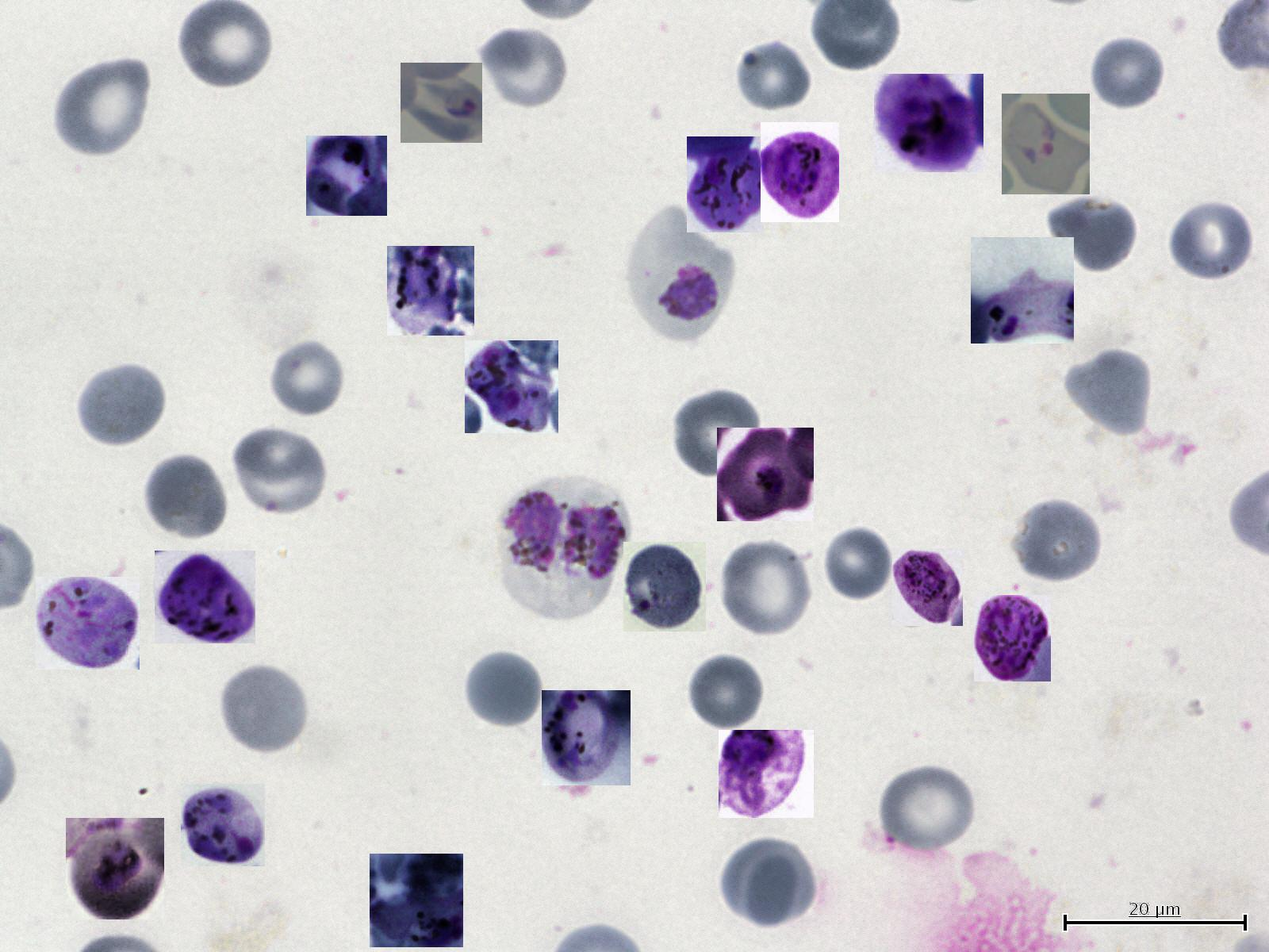Infected: (499, 475, 633, 619), (629, 209, 733, 343), (971, 237, 1074, 344), (874, 74, 983, 172), (66, 818, 164, 919), (36, 577, 140, 670), (155, 551, 255, 643), (717, 428, 814, 521), (1002, 94, 1090, 195), (465, 340, 558, 433), (370, 854, 463, 947), (542, 690, 631, 785), (719, 730, 814, 818), (387, 246, 474, 336), (761, 122, 839, 222), (623, 542, 706, 631), (688, 137, 765, 232), (181, 784, 265, 866), (974, 595, 1051, 681), (401, 63, 482, 143), (306, 136, 387, 216), (892, 548, 963, 626)
Uninfected: (54, 56, 152, 159), (719, 538, 815, 639), (719, 835, 818, 930), (231, 424, 328, 520), (879, 762, 976, 855), (671, 387, 764, 480), (178, 0, 273, 90), (1061, 347, 1152, 437), (1010, 497, 1103, 585), (217, 662, 308, 750), (141, 453, 229, 544), (478, 24, 569, 111), (1167, 198, 1256, 283), (1045, 194, 1137, 273), (79, 366, 168, 447), (269, 337, 347, 419), (731, 36, 811, 114), (687, 652, 765, 731), (467, 652, 549, 726), (1088, 34, 1164, 112), (824, 528, 900, 600)
